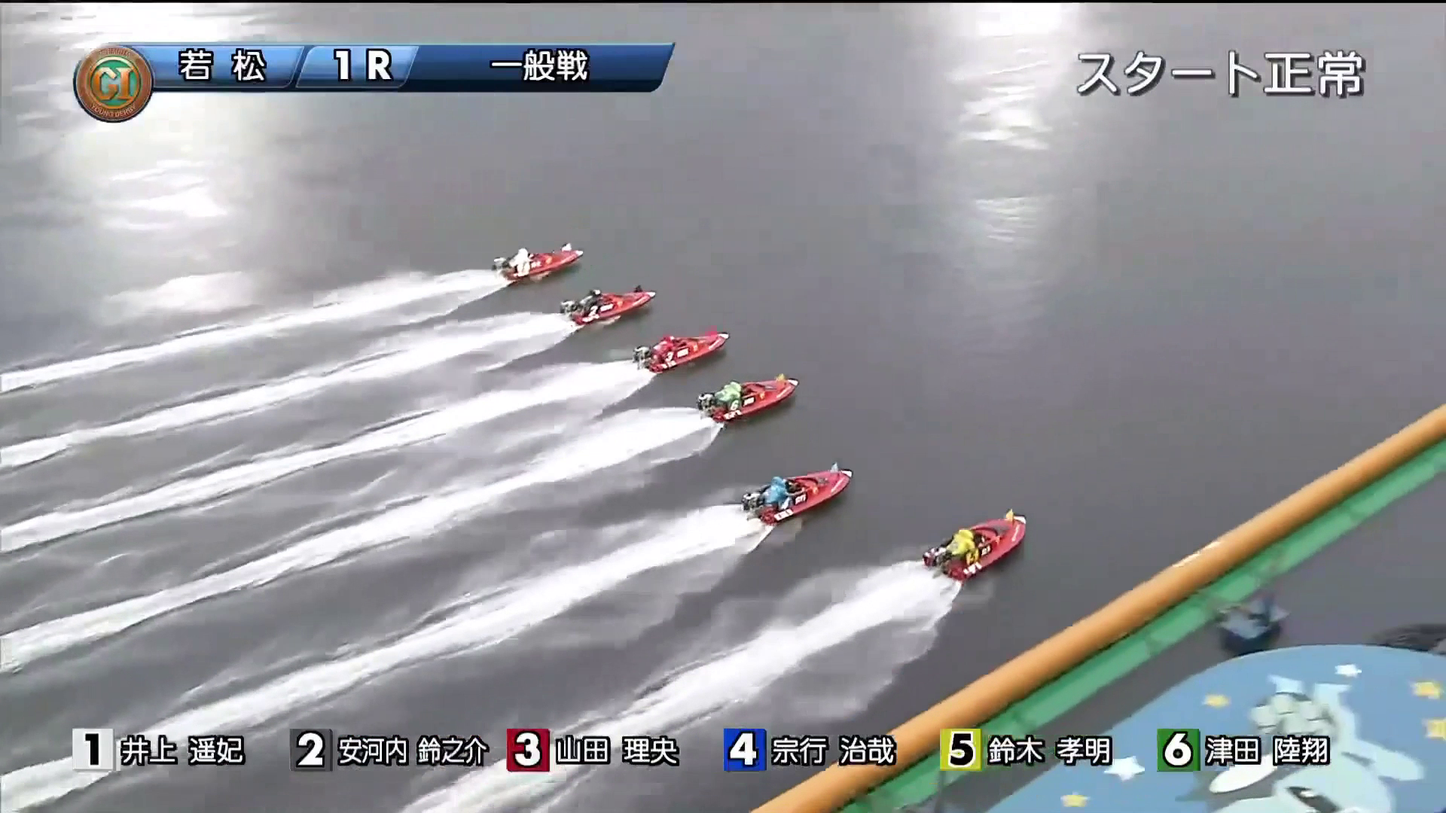１号艇: (566, 259, 641, 299)
２号艇: (577, 288, 666, 326)
３号艇: (633, 330, 724, 371)
４号艇: (690, 387, 795, 430)
５号艇: (726, 466, 846, 521)
６号艇: (885, 520, 984, 577)
